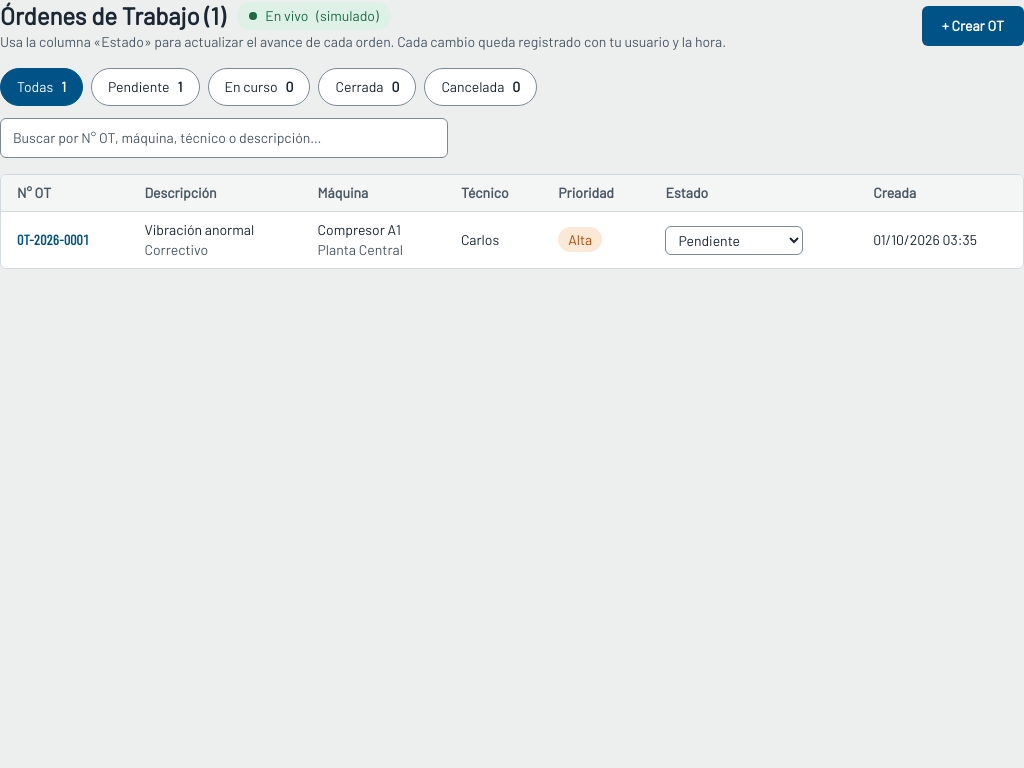
WorkOrdersListComponent — cambio de estado › ante un 409 informa el error, cierra el diálogo y refresca la OT
Select "→ Cancelada" in the dropdown named "Cambiar estado de la OT OT-2026-0001. Estado actual: Pendien": (734, 240) [666,226,804,254]
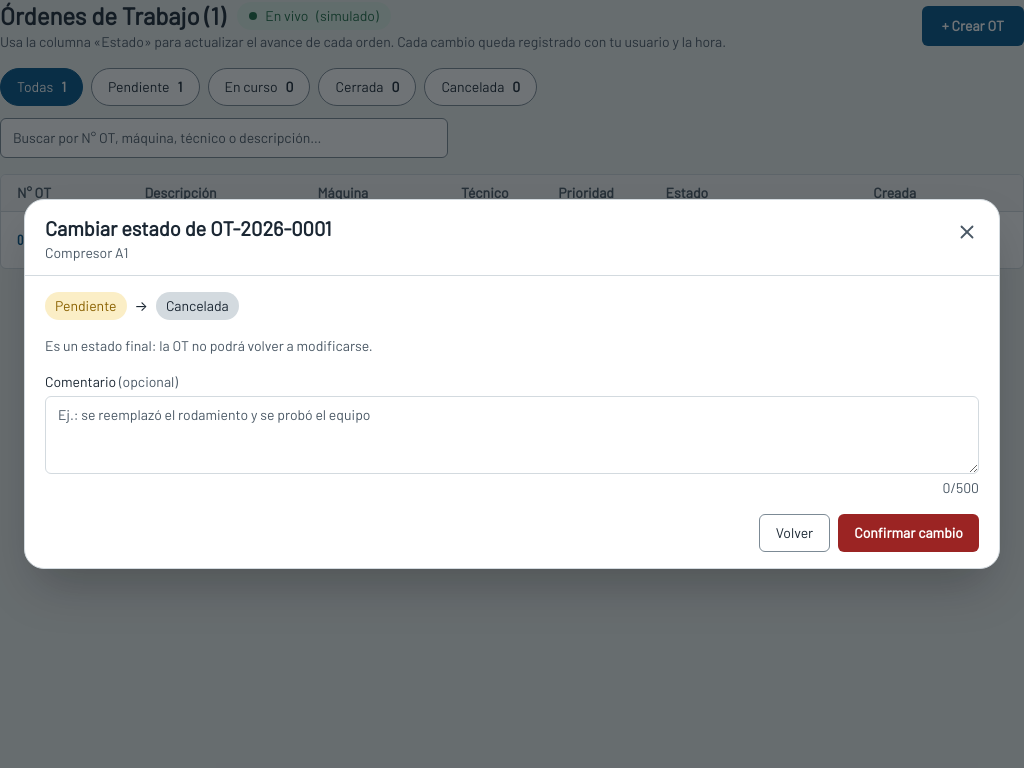
Click the button "Confirmar cambio": (909, 533) [838,514,979,552]
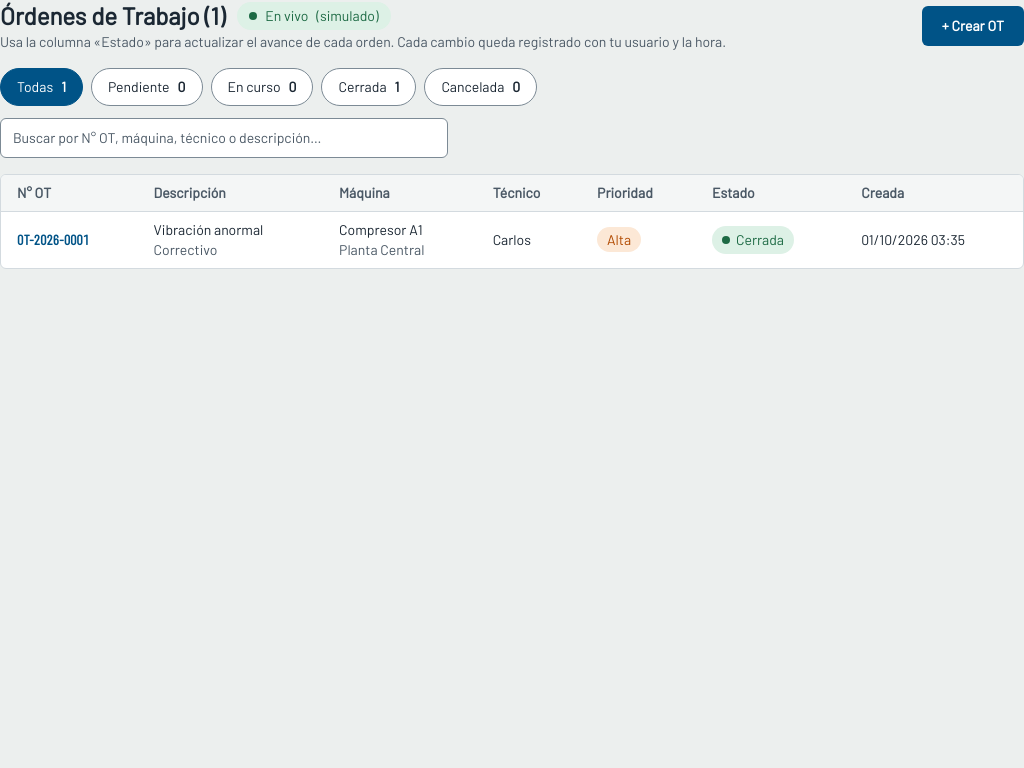
Check: the dropdown is gone
